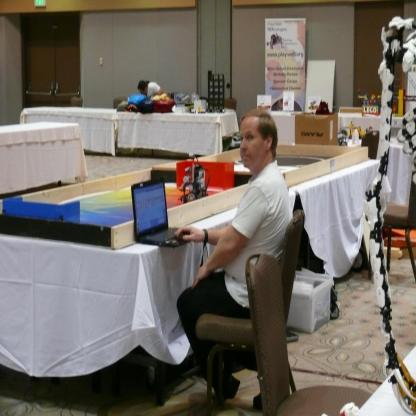board: (130, 176, 191, 249)
